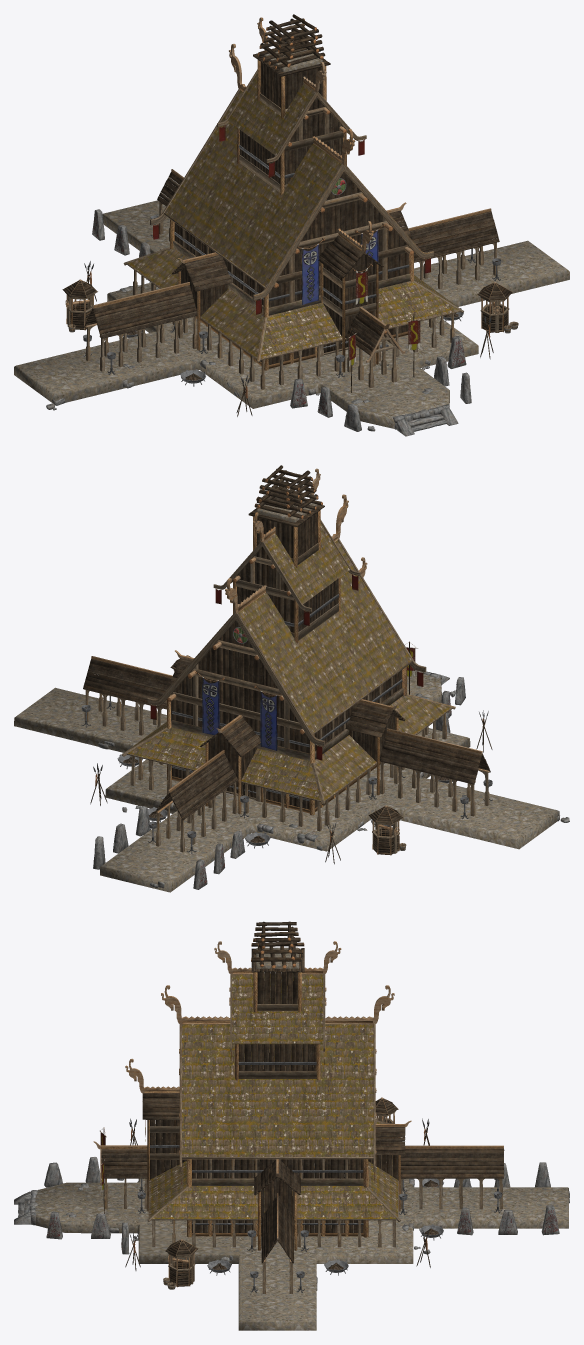
The model's file is valhalla_diorama.glb.
3 views of the same model, one above another, from view 1: azimuth 30°, elevation 25°; view 2: azimuth 150°, elevation 25°; view 3: azimuth 270°, elevation 25° (orthographic). The views are drawn at different scales.
Parts seen in each view (by area): view 1: KB3D_VAL_BldgLG_A_BuildingD, KB3D_VAL_BldgLG_A_Base, KB3D_VAL_BldgLG_A_BuildingE, KB3D_VAL_BldgLG_A_RoofD, KB3D_VAL_BldgLG_A_BuildingG, KB3D_VAL_BldgLG_A_RoofC, KB3D_VAL_BldgLG_A_Rock, KB3D_VAL_BldgLG_A_FireWood, KB3D_VAL_BldgLG_A_BuildingA, KB3D_VAL_BldgLG_A_RoofE, KB3D_VAL_BldgLG_A_WellB, KB3D_VAL_BldgLG_A_WellA (+1 smaller); view 2: KB3D_VAL_BldgLG_A_BuildingD, KB3D_VAL_BldgLG_A_Base, KB3D_VAL_BldgLG_A_BuildingE, KB3D_VAL_BldgLG_A_RoofD, KB3D_VAL_BldgLG_A_RoofC, KB3D_VAL_BldgLG_A_RoofB, KB3D_VAL_BldgLG_A_Rock, KB3D_VAL_BldgLG_A_FireWood, KB3D_VAL_BldgLG_A_BuildingA, KB3D_VAL_BldgLG_A_RoofA, KB3D_VAL_BldgLG_A_WellA; view 3: KB3D_VAL_BldgLG_A_BuildingD, KB3D_VAL_BldgLG_A_Base, KB3D_VAL_BldgLG_A_BuildingE, KB3D_VAL_BldgLG_A_RoofB, KB3D_VAL_BldgLG_A_Rock, KB3D_VAL_BldgLG_A_BuildingG, KB3D_VAL_BldgLG_A_BuildingF, KB3D_VAL_BldgLG_A_RoofE, KB3D_VAL_BldgLG_A_RoofC, KB3D_VAL_BldgLG_A_FireWood, KB3D_VAL_BldgLG_A_RoofA, KB3D_VAL_BldgLG_A_WellB.
Boxes of the visible parts, bbox=[...] form: KB3D_VAL_BldgLG_A_BuildingD: bbox=[123, 44, 463, 389]; KB3D_VAL_BldgLG_A_Base: bbox=[14, 198, 569, 436]; KB3D_VAL_BldgLG_A_BuildingE: bbox=[217, 17, 366, 195]; KB3D_VAL_BldgLG_A_RoofD: bbox=[84, 282, 197, 371]; KB3D_VAL_BldgLG_A_BuildingG: bbox=[318, 221, 383, 372]; KB3D_VAL_BldgLG_A_RoofC: bbox=[408, 208, 499, 289]; KB3D_VAL_BldgLG_A_Rock: bbox=[92, 209, 471, 431]; KB3D_VAL_BldgLG_A_FireWood: bbox=[258, 14, 325, 69]; KB3D_VAL_BldgLG_A_BuildingA: bbox=[172, 252, 232, 350]; KB3D_VAL_BldgLG_A_RoofE: bbox=[345, 307, 405, 387]; KB3D_VAL_BldgLG_A_WellB: bbox=[477, 282, 518, 333]; KB3D_VAL_BldgLG_A_WellA: bbox=[62, 279, 97, 332]; KB3D_VAL_BldgLG_A_BuildingD: bbox=[121, 494, 455, 831]; KB3D_VAL_BldgLG_A_Base: bbox=[14, 670, 569, 892]; KB3D_VAL_BldgLG_A_BuildingE: bbox=[213, 468, 360, 643]; KB3D_VAL_BldgLG_A_RoofD: bbox=[379, 728, 490, 816]; KB3D_VAL_BldgLG_A_RoofC: bbox=[83, 656, 176, 735]; KB3D_VAL_BldgLG_A_RoofB: bbox=[154, 750, 237, 852]; KB3D_VAL_BldgLG_A_Rock: bbox=[93, 677, 465, 889]; KB3D_VAL_BldgLG_A_FireWood: bbox=[254, 465, 322, 518]; KB3D_VAL_BldgLG_A_BuildingA: bbox=[345, 699, 404, 795]; KB3D_VAL_BldgLG_A_RoofA: bbox=[200, 715, 260, 814]; KB3D_VAL_BldgLG_A_WellA: bbox=[368, 805, 406, 855]; KB3D_VAL_BldgLG_A_BuildingD: bbox=[147, 985, 400, 1247]; KB3D_VAL_BldgLG_A_Base: bbox=[14, 1163, 569, 1330]; KB3D_VAL_BldgLG_A_BuildingE: bbox=[214, 941, 341, 1080]; KB3D_VAL_BldgLG_A_RoofB: bbox=[399, 1145, 504, 1209]; KB3D_VAL_BldgLG_A_Rock: bbox=[44, 1157, 559, 1254]; KB3D_VAL_BldgLG_A_BuildingG: bbox=[125, 1058, 186, 1211]; KB3D_VAL_BldgLG_A_BuildingF: bbox=[254, 1159, 300, 1250]; KB3D_VAL_BldgLG_A_RoofE: bbox=[93, 1141, 147, 1208]; KB3D_VAL_BldgLG_A_RoofC: bbox=[261, 1193, 293, 1293]; KB3D_VAL_BldgLG_A_FireWood: bbox=[251, 921, 304, 968]; KB3D_VAL_BldgLG_A_RoofA: bbox=[368, 1120, 411, 1211]; KB3D_VAL_BldgLG_A_WellB: bbox=[163, 1239, 198, 1289].
Bounding box in the file's own units: 36.22 × 20.21 × 35.37.
Materials: 18 (18 with a texture image).
